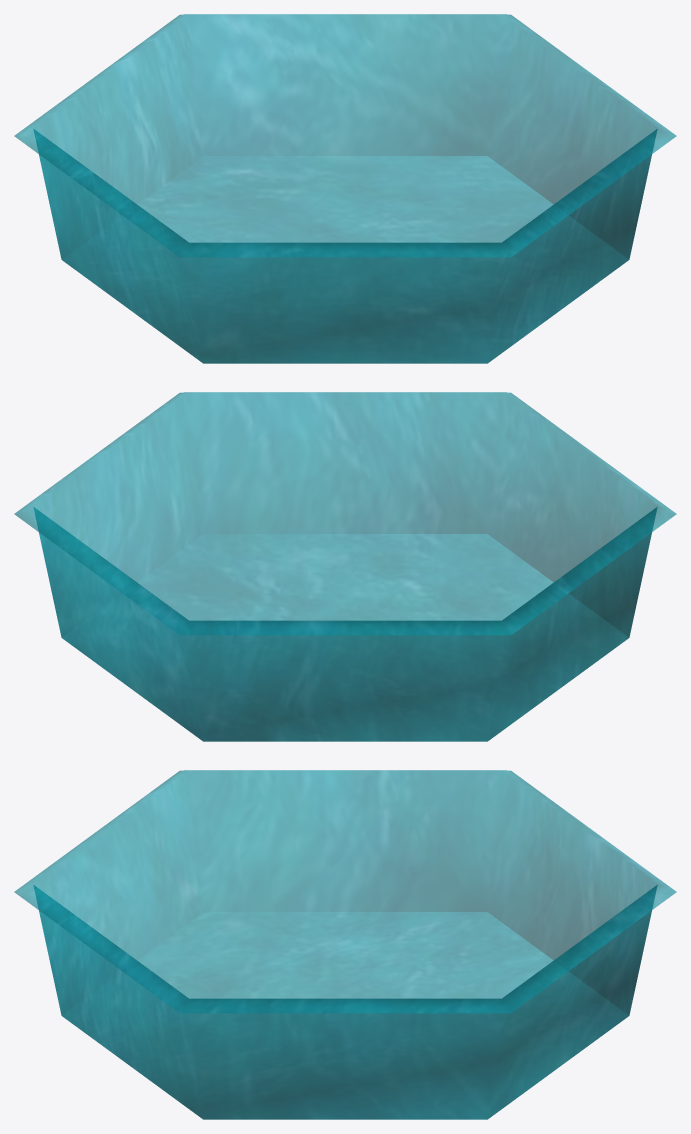
Rendered from shallow-ocean.glb.
3 renders of one model, top to bottom at view 1: azimuth 30°, elevation 25°; view 2: azimuth 150°, elevation 25°; view 3: azimuth 270°, elevation 25°, orthographic.
Visible parts, largest first — view 1: Water.001; view 2: Water.001; view 3: Water.001.
Part boxes in pixels (<box>): Water.001: <box>14,14,676,363</box>; Water.001: <box>14,392,676,741</box>; Water.001: <box>14,770,676,1119</box>.
Size of the model in its own units: 1.73 by 0.4374 by 2.
1 material, 1 textured.
